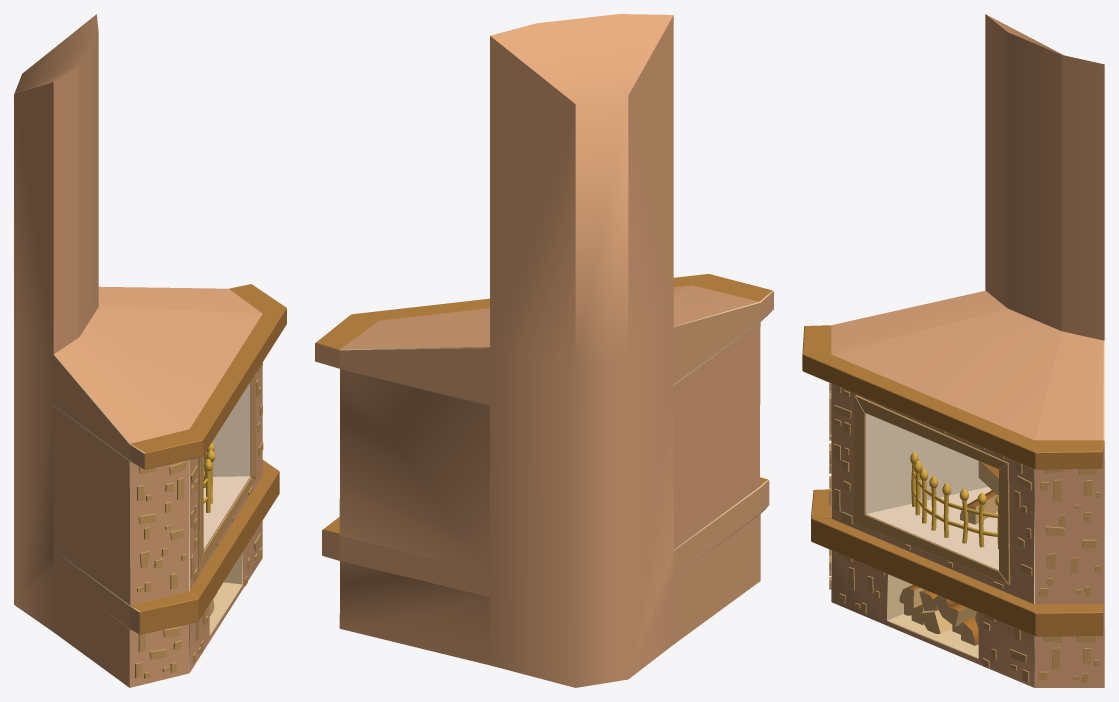
Rendered from Fire_Place.glb.
The picture shows the model from 3 angles, left to right: view 1: azimuth 30°, elevation 25°; view 2: azimuth 150°, elevation 25°; view 3: azimuth 270°, elevation 25°; orthographic projection. The views are drawn at different scales.
Parts seen in each view (by area): view 1: Fireplase2; view 2: Fireplase2; view 3: Fireplase2.
Boxes of the visible parts, x1,y1,x2,y2 form: Fireplase2: (14,14,286,687); Fireplase2: (315,14,773,687); Fireplase2: (802,14,1104,687).
Bounding box in the file's own units: 1.47 × 3.01 × 1.47.
3 materials, 2 textured.
